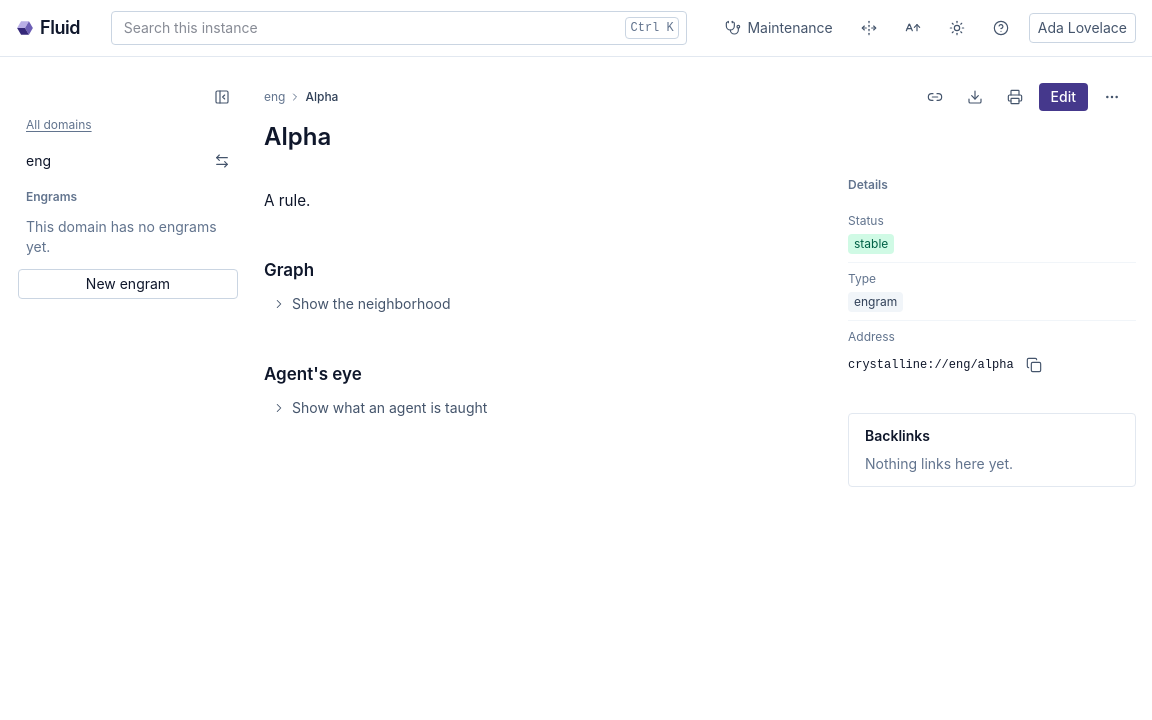
Scenario: the palette's actions › a screen's actions appear in the palette and run on select
Expected: the heading "Alpha" is shown, [264,121,331,153]
Step 1. Type keys "{Meta>}k{/Meta}"
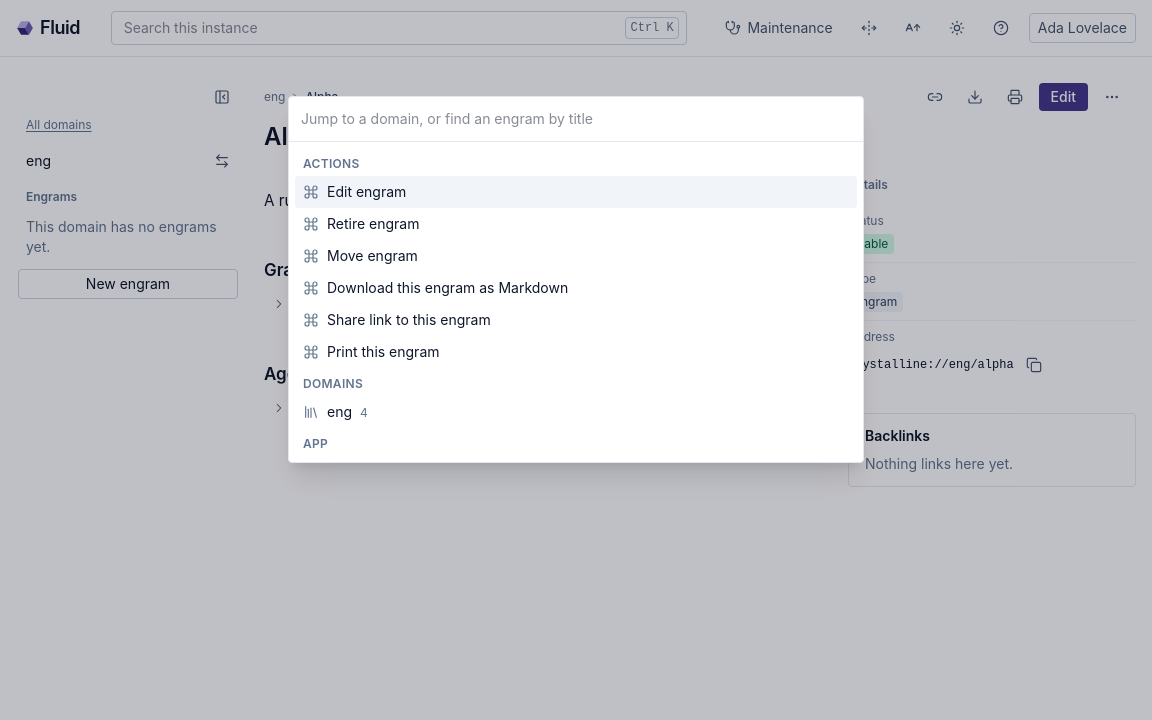
Expected: the option "Edit engram" is shown
Expected: the option "Retire engram" is shown, [303,215,420,232]
Expected: the option "Move engram" is shown, [303,247,418,264]
Step 2. Click the option "Edit engram" → (367, 192), box [295,176,857,208]
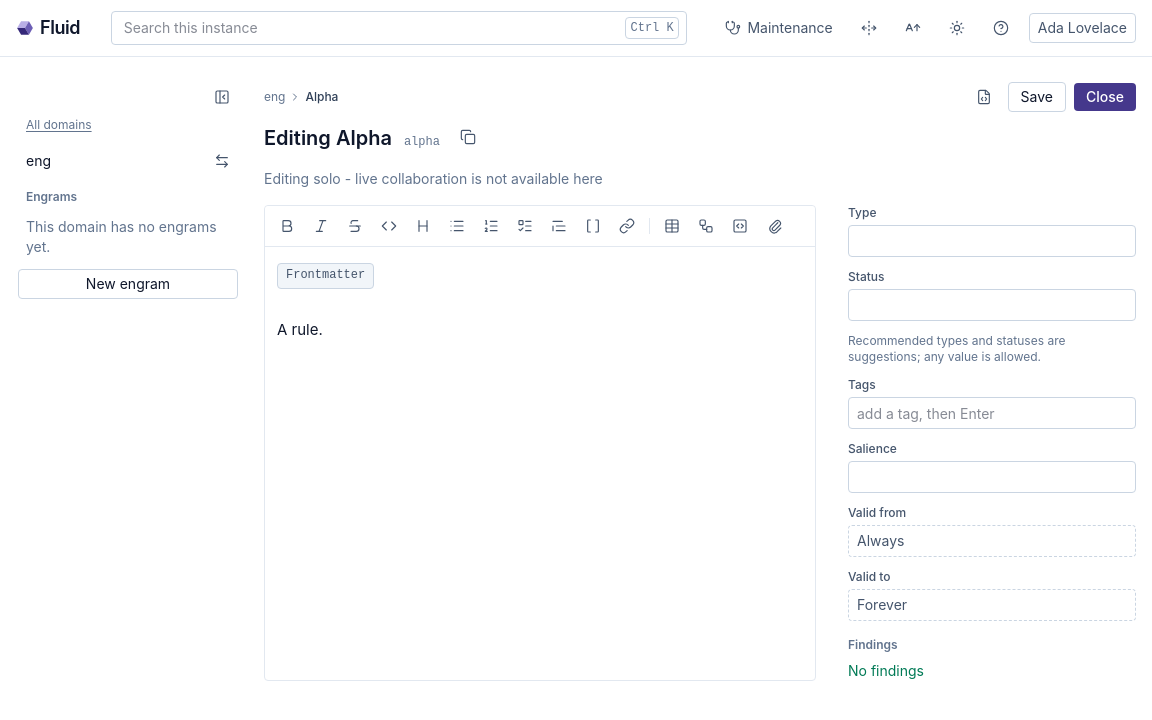
Expected: the option "Edit engram" is gone
Expected: the field named "Engram source" is shown, [277,263,374,338]
